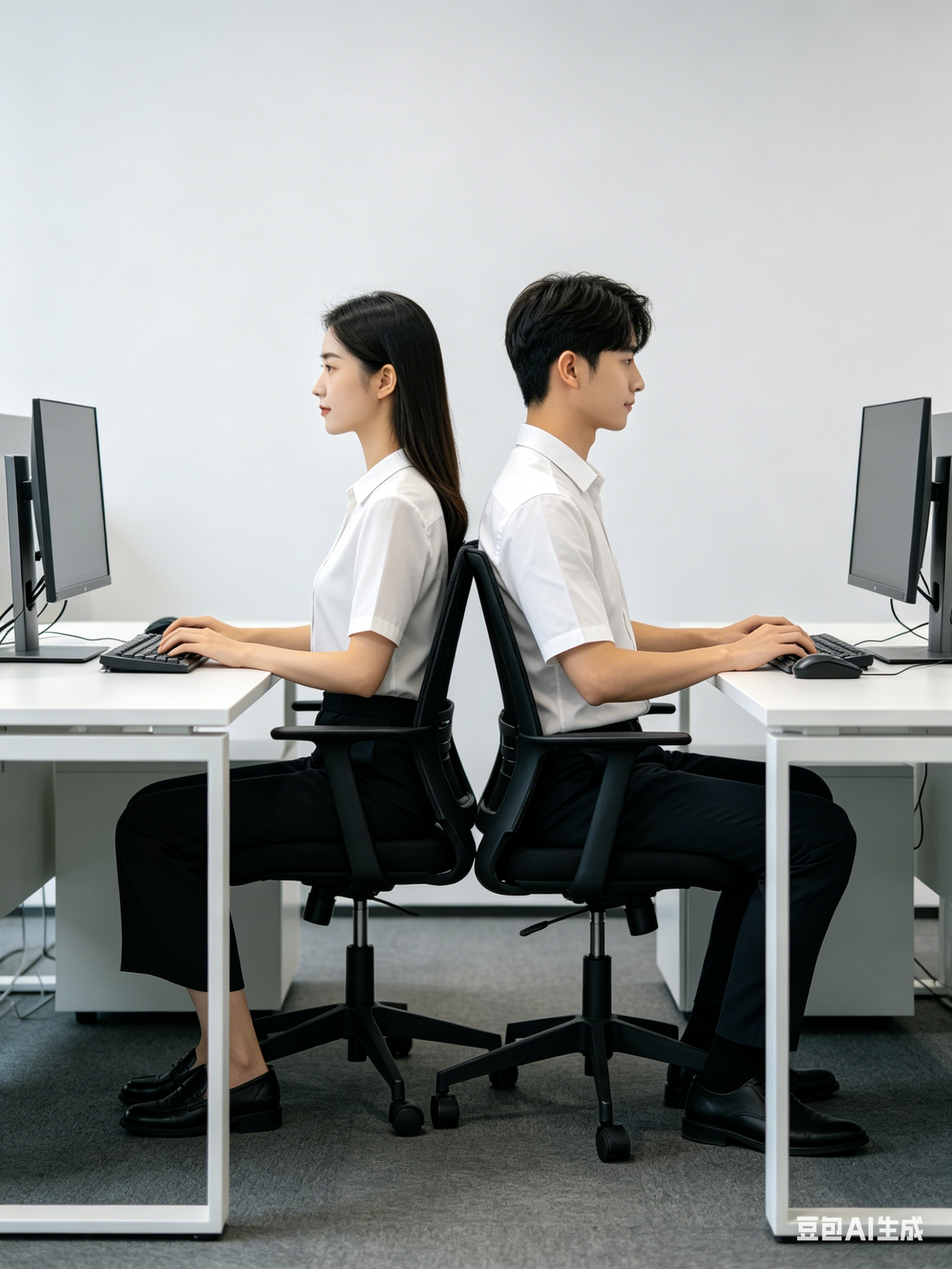sitting_good: (469, 271, 848, 1139), (116, 297, 458, 1126)
